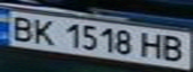1: (57, 20, 84, 50), (97, 25, 118, 54)
5: (78, 22, 100, 52)
8: (115, 27, 139, 56)
B: (3, 14, 39, 43), (157, 33, 190, 63)
H: (136, 29, 166, 60)
K: (27, 16, 57, 46)
